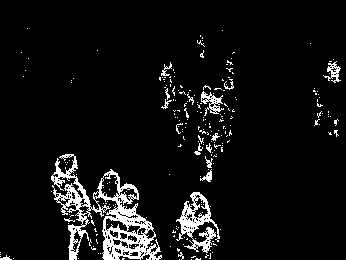person: (51, 152, 97, 260), (100, 182, 158, 260), (171, 189, 221, 260), (202, 88, 234, 179)
